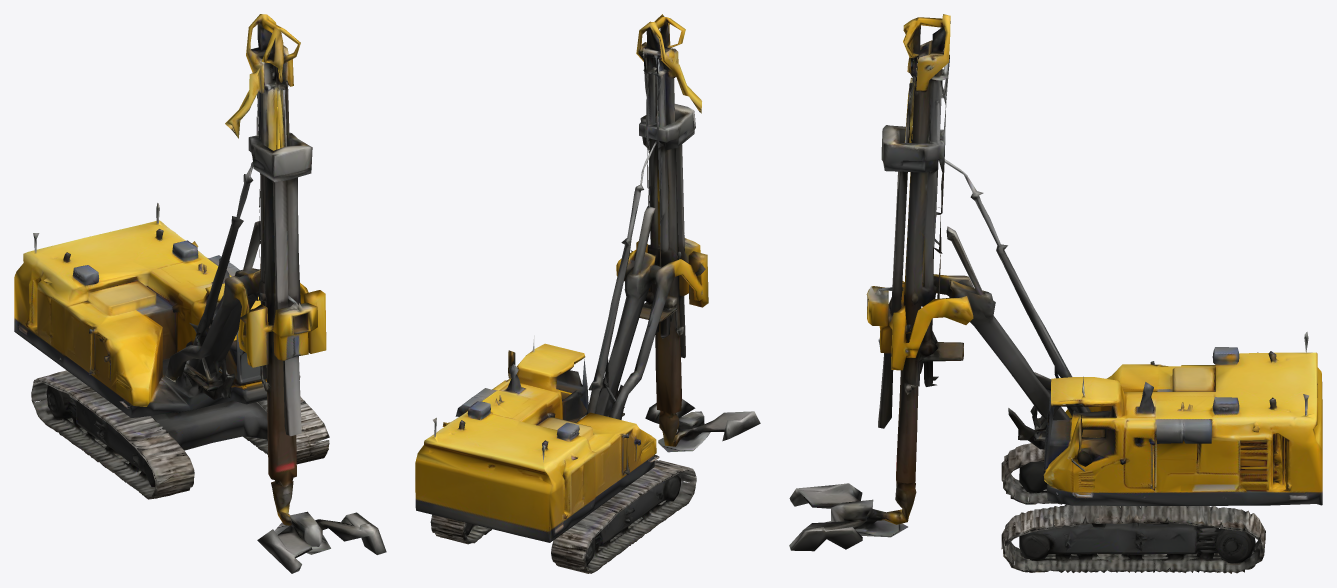
File: qr_drill.glb
3 renders of one model, left to right at view 1: azimuth 30°, elevation 25°; view 2: azimuth 150°, elevation 25°; view 3: azimuth 270°, elevation 25°, orthographic. The views are drawn at different scales.
Visible parts, largest first — view 1: tripo_node_faff57c6-6db1-4a42-aaff-94f2939b6ca2; view 2: tripo_node_faff57c6-6db1-4a42-aaff-94f2939b6ca2; view 3: tripo_node_faff57c6-6db1-4a42-aaff-94f2939b6ca2.
Boxes of the visible parts, x1,y1,x2,y2 form: tripo_node_faff57c6-6db1-4a42-aaff-94f2939b6ca2: (14,14,386,573); tripo_node_faff57c6-6db1-4a42-aaff-94f2939b6ca2: (415,14,760,573); tripo_node_faff57c6-6db1-4a42-aaff-94f2939b6ca2: (789,14,1322,573).
Bounding box in the file's own units: 0.3631 × 0.9809 × 0.9253.
Materials: 1 (1 with a texture image).
